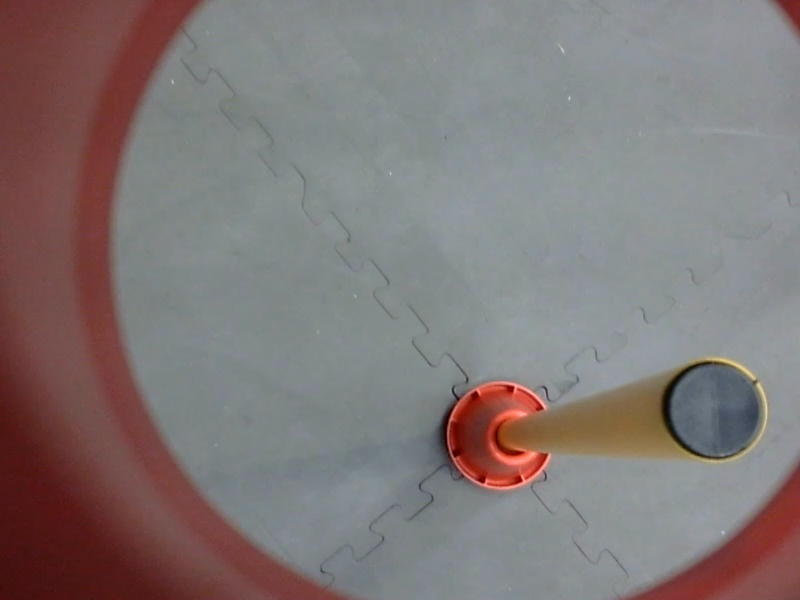tip: (656, 347, 777, 472)
